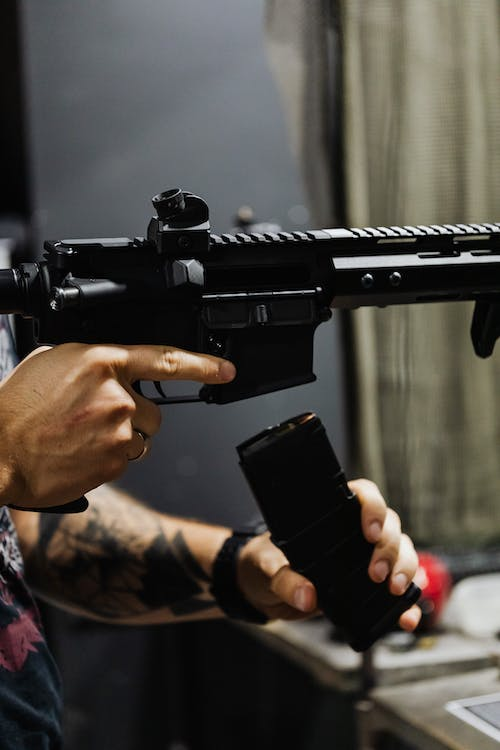gun: (0, 182, 500, 516)
